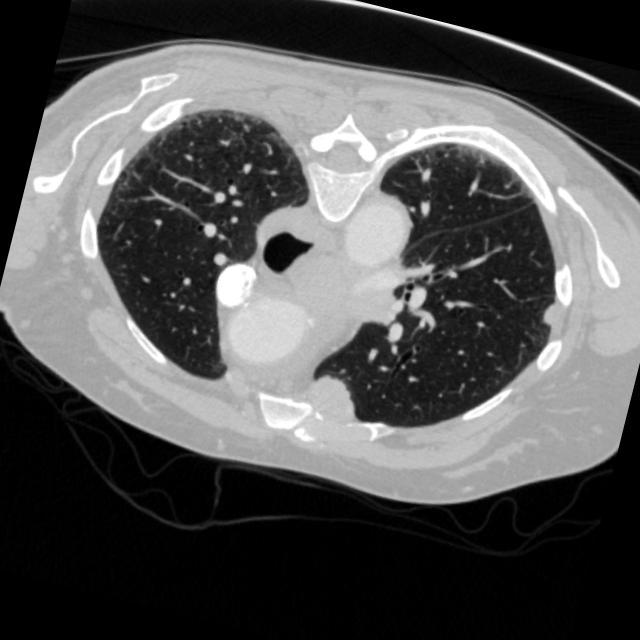nodule: (526, 294, 565, 334)
